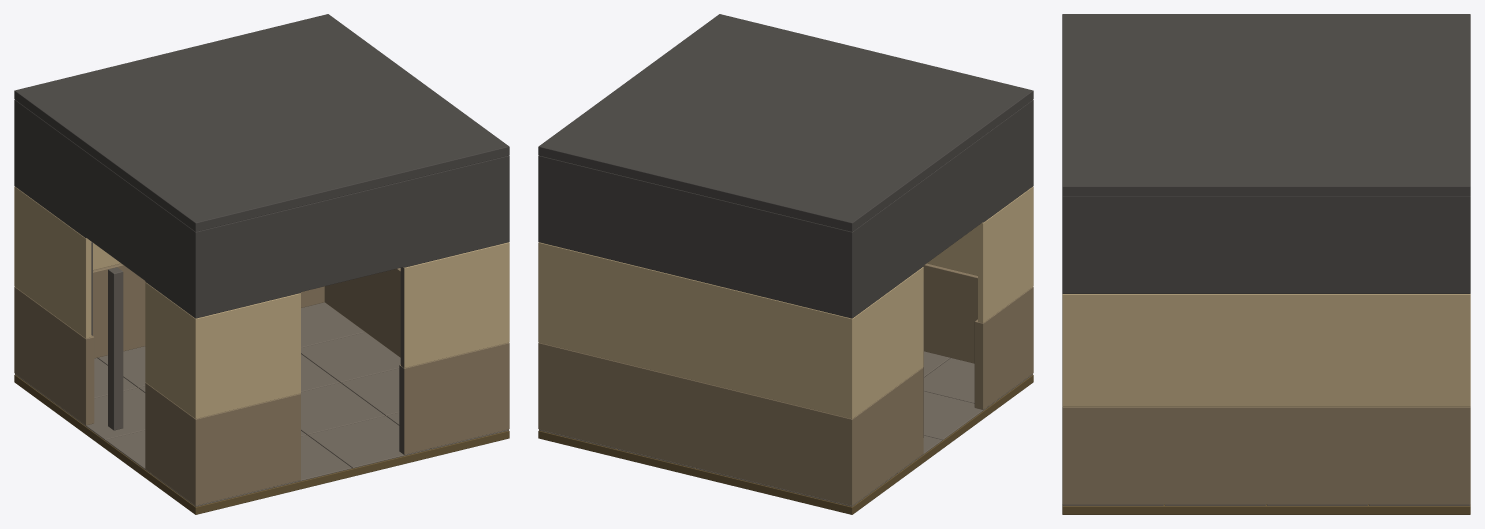
The model's file is gen-filter.glb.
3 views of the same model, side by side, from view 1: azimuth 30°, elevation 25°; view 2: azimuth 150°, elevation 25°; view 3: azimuth 270°, elevation 25° (orthographic). The views are drawn at different scales.
Visible parts, largest first — view 1: THE FILTER; view 2: THE FILTER; view 3: THE FILTER.
Part boxes in pixels (left/top/right/bottom): THE FILTER: left=14, top=14, right=509, bottom=514; THE FILTER: left=538, top=14, right=1033, bottom=514; THE FILTER: left=1062, top=14, right=1470, bottom=514.
Size of the model in its own units: 3.6 by 3.2 by 3.6.
